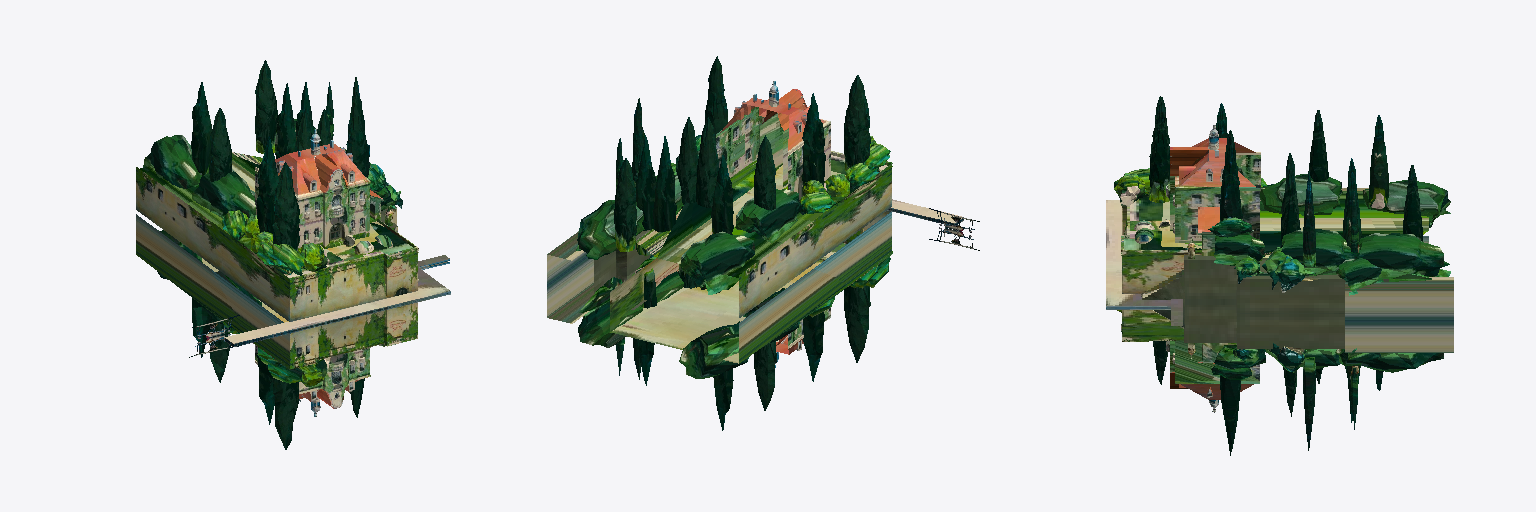
3 views of the same model, side by side, from view 1: azimuth 30°, elevation 25°; view 2: azimuth 150°, elevation 25°; view 3: azimuth 270°, elevation 25° (orthographic).
Parts seen in each view (by area): view 1: Plane.003_Plane.010; view 2: Plane.003_Plane.010; view 3: Plane.003_Plane.010.
Boxes of the visible parts, x1=… form: Plane.003_Plane.010: x1=136, y1=60, x2=450, y2=449; Plane.003_Plane.010: x1=547, y1=56, x2=979, y2=430; Plane.003_Plane.010: x1=1106, y1=96, x2=1453, y2=455.
Bounding box in the file's own units: 21.9 × 24.39 × 23.5.
Materials: 2 (1 with a texture image).